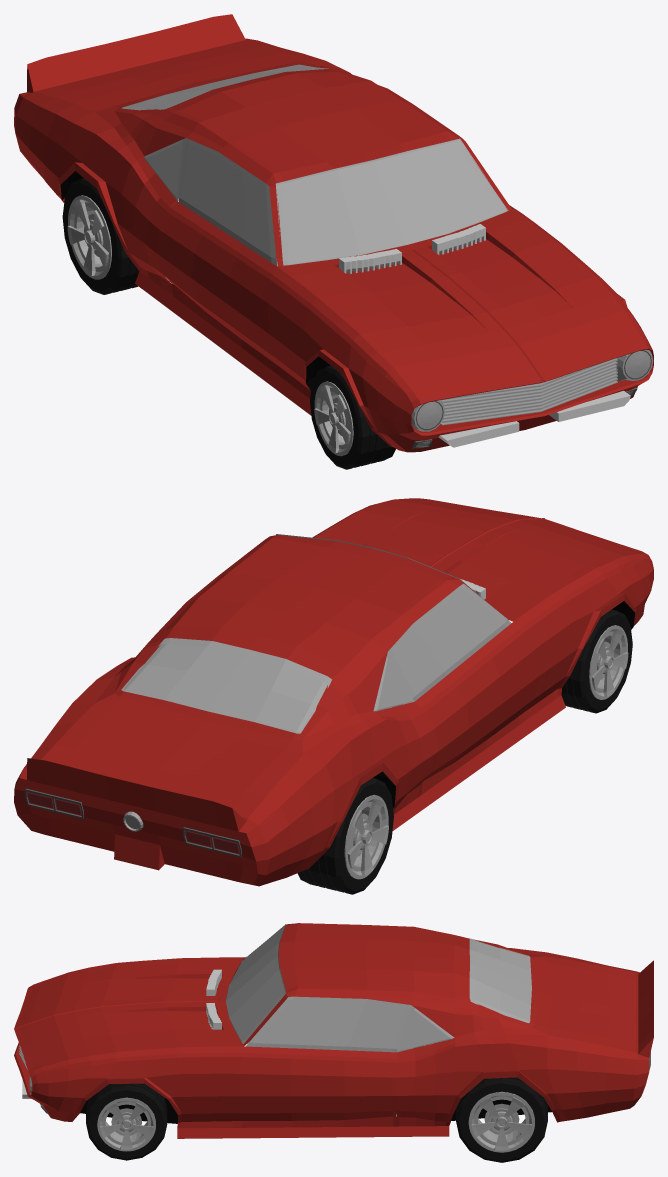
The model's file is Car_Low.obj.
The picture shows the model from 3 angles, top to bottom: view 1: azimuth 30°, elevation 25°; view 2: azimuth 150°, elevation 25°; view 3: azimuth 270°, elevation 25°; orthographic projection. The views are drawn at different scales.
Parts seen in each view (by area): view 1: Carroceria_Plano, Parabrisas_Ad_Plano.005, Pueratas_Plano.008, Ventana_1_Plano.013, Rejilla_Plano.002, Ruedas_Ad_Círculo.004, Ruedas_Tr_Círculo.005, Rin_1_Tr_Plano.018, Plano.002_Plano.019, Rin_1_Ad_Plano.017, Cubo, Parabrisas_Tr_Plano.015 (+4 smaller); view 2: Carroceria_Plano, Parabrisas_Tr_Plano.015, Pueratas_Plano.008, Ventana_1_Plano.013, Ruedas_Tr_Círculo.005, Ruedas_Ad_Círculo.004, Rin_1_Tr_Plano.018, Rin_1_Ad_Plano.017, Luz_Tr_Plano.021, Marco_Parabrisad_Tr_Plano.016, Ventana_2_Plano.010; view 3: Carroceria_Plano, Pueratas_Plano.008, Ventana_1_Plano.013, Parabrisas_Ad_Plano.005, Parabrisas_Tr_Plano.015, Ruedas_Tr_Círculo.005, Ruedas_Ad_Círculo.004, Rin_1_Tr_Plano.018, Rin_1_Ad_Plano.017, Ventana_2_Plano.010, Cubo, Marco_Ventana_2_Plano.012 (+2 smaller).
Boxes of the visible parts, x1,y1,x2,y2 form: Carroceria_Plano: [14, 14, 653, 452]; Parabrisas_Ad_Plano.005: [277, 140, 507, 264]; Pueratas_Plano.008: [156, 202, 519, 367]; Ventana_1_Plano.013: [178, 138, 277, 266]; Rejilla_Plano.002: [441, 358, 617, 425]; Ruedas_Ad_Círculo.004: [310, 365, 395, 469]; Ruedas_Tr_Círculo.005: [62, 178, 139, 294]; Rin_1_Tr_Plano.018: [67, 195, 111, 279]; Plano.002_Plano.019: [438, 390, 630, 447]; Rin_1_Ad_Plano.017: [314, 381, 353, 456]; Cubo: [339, 224, 485, 273]; Parabrisas_Tr_Plano.015: [124, 65, 326, 109]; Carroceria_Plano: [14, 498, 653, 886]; Parabrisas_Tr_Plano.015: [124, 639, 329, 731]; Pueratas_Plano.008: [415, 622, 540, 780]; Ventana_1_Plano.013: [388, 583, 511, 701]; Ruedas_Tr_Círculo.005: [297, 778, 393, 894]; Ruedas_Ad_Círculo.004: [561, 609, 632, 713]; Rin_1_Tr_Plano.018: [344, 794, 388, 879]; Rin_1_Ad_Plano.017: [589, 625, 628, 699]; Luz_Tr_Plano.021: [25, 788, 241, 857]; Marco_Parabrisad_Tr_Plano.016: [121, 638, 331, 733]; Ventana_2_Plano.010: [377, 659, 411, 709]; Carroceria_Plano: [14, 923, 653, 1138]; Pueratas_Plano.008: [230, 957, 396, 1120]; Ventana_1_Plano.013: [245, 996, 411, 1052]; Parabrisas_Ad_Plano.005: [226, 925, 285, 1043]; Parabrisas_Tr_Plano.015: [471, 939, 530, 1021]; Ruedas_Tr_Círculo.005: [456, 1077, 547, 1162]; Ruedas_Ad_Círculo.004: [86, 1083, 167, 1160]; Rin_1_Tr_Plano.018: [468, 1091, 534, 1152]; Rin_1_Ad_Plano.017: [97, 1097, 155, 1151]; Ventana_2_Plano.010: [400, 1010, 450, 1049]; Cubo: [206, 969, 221, 1029]; Marco_Ventana_2_Plano.012: [397, 1005, 454, 1052].
Bounding box in the file's own units: 3.92 × 2.68 × 9.85.
